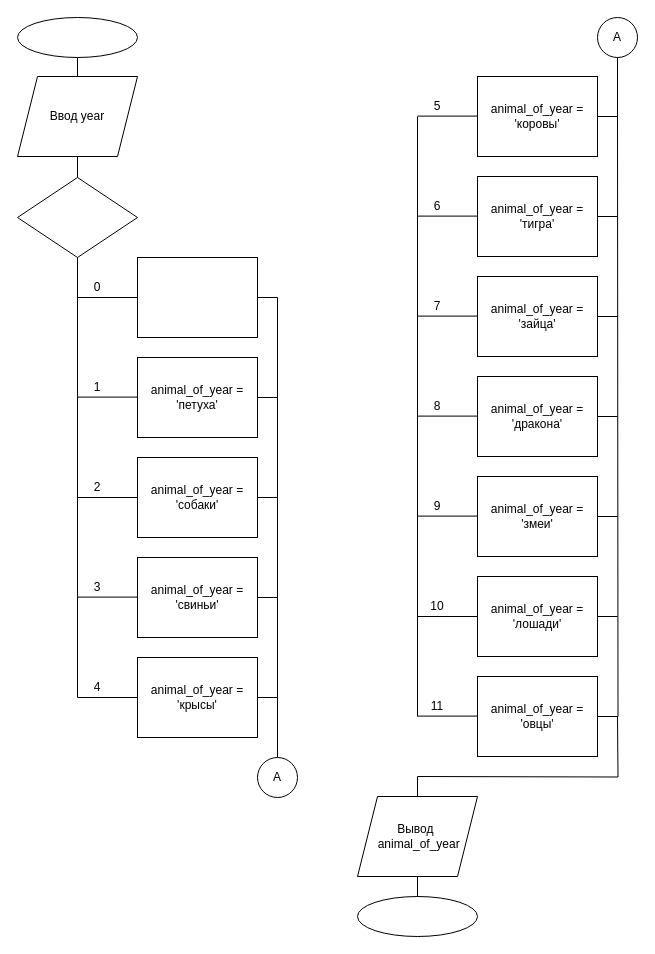
Image size: 655x954. Some labels were removed from this diagram. The centre of each missing label's shape, as x and y in pixels:
"animal_of_year = 'обезьяны'" belongs at pixel 197 297.
"year % 12" belongs at pixel 77 217.
"Конец" belongs at pixel 417 916.
"Начало" belongs at pixel 77 37.
